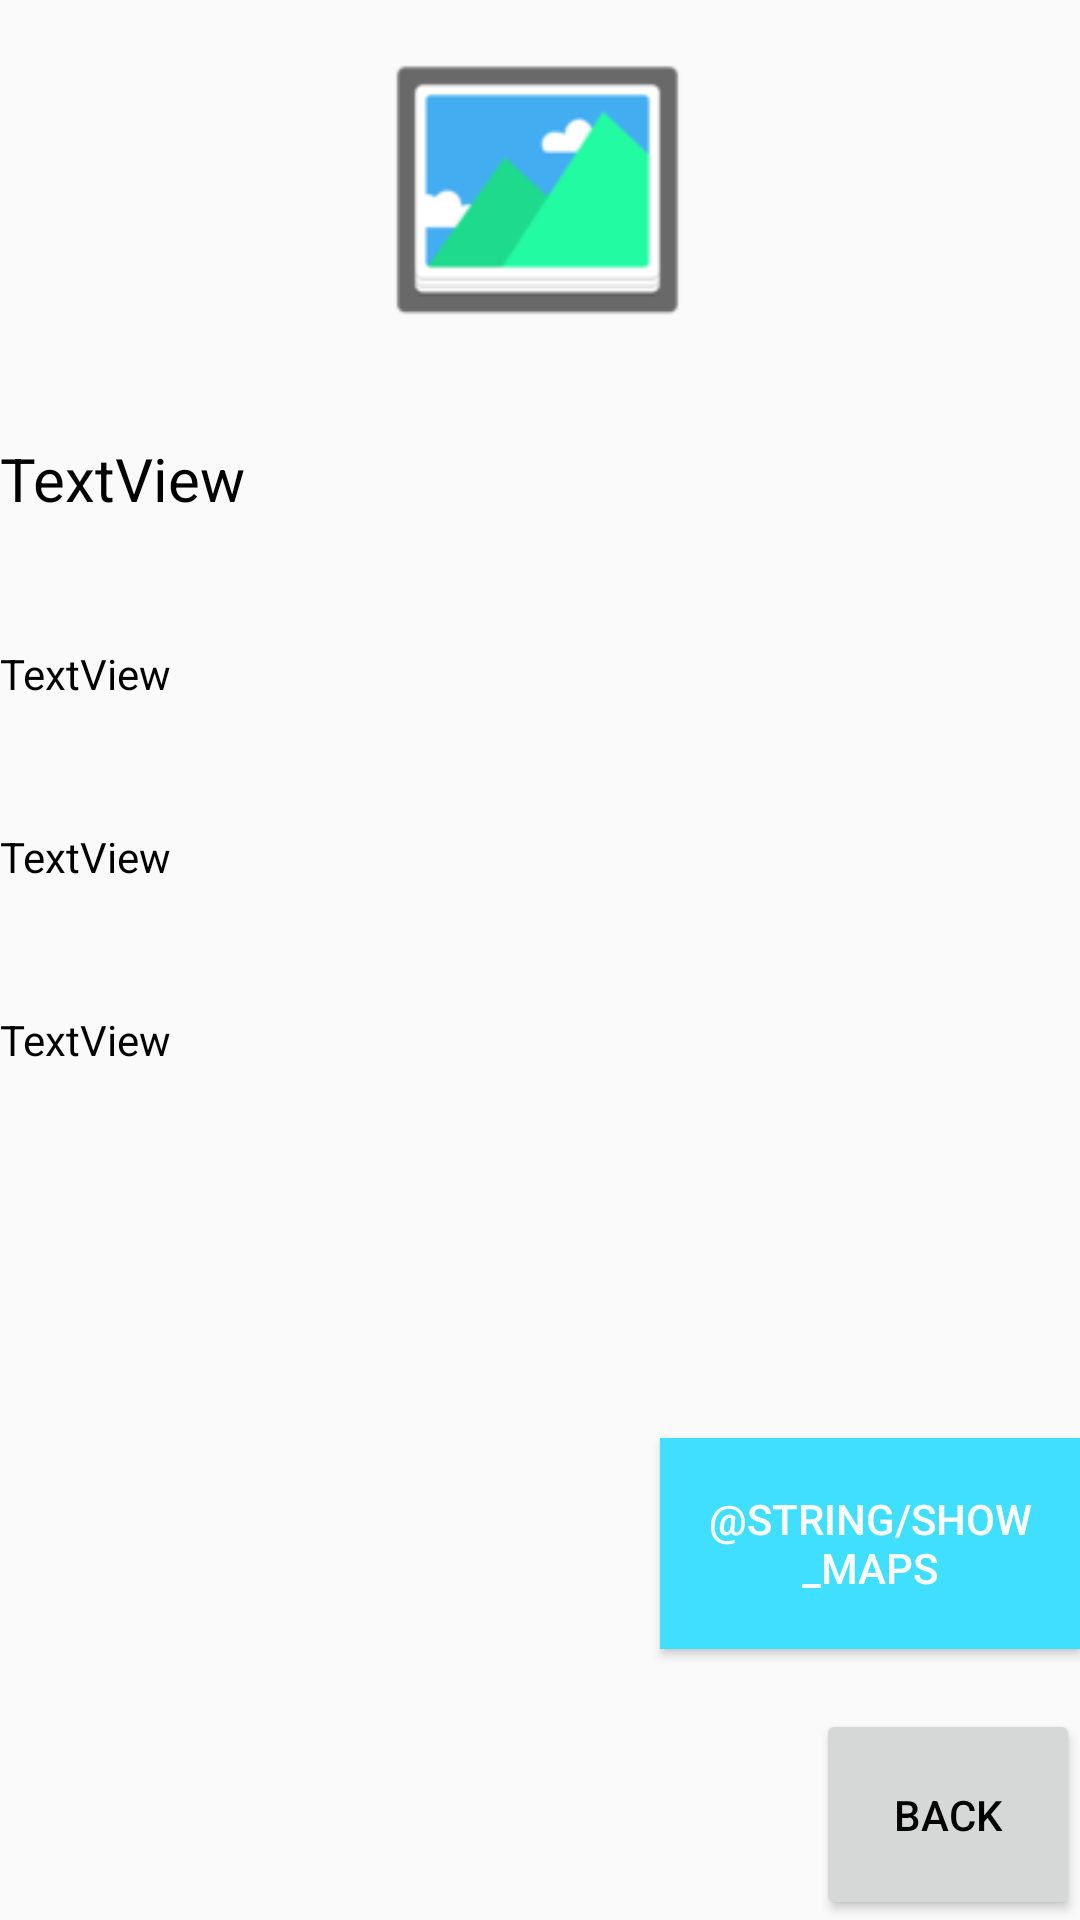

Icons on this 1080 × 1920 Android screen, each with the point to tap as point (x, y):
imageicon: point (537, 190)
